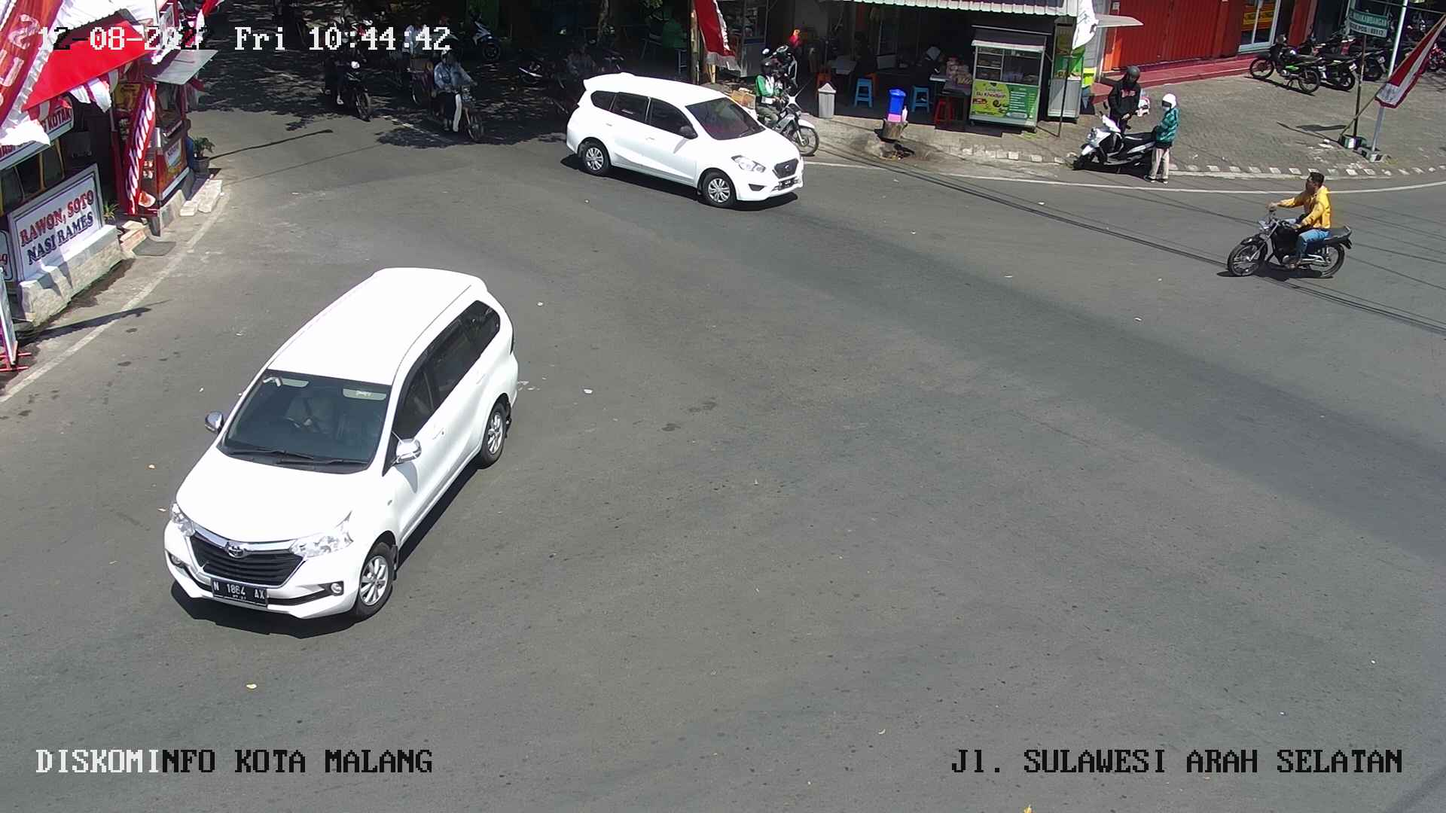without_helmet: (1205, 166, 1360, 297)
